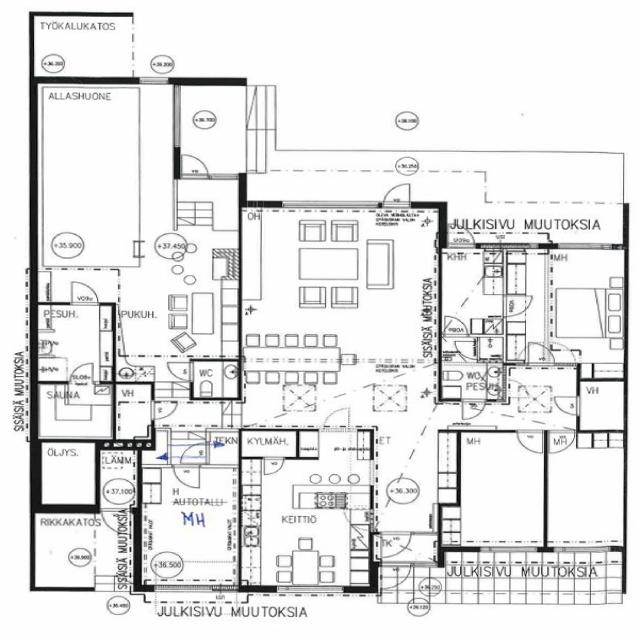door: (102, 504, 130, 536), (381, 562, 410, 590), (381, 532, 410, 559), (383, 180, 409, 208), (448, 222, 475, 248), (182, 153, 207, 179), (529, 342, 554, 367), (517, 429, 542, 454), (72, 282, 98, 306), (174, 464, 200, 488), (549, 429, 574, 453), (503, 296, 532, 316), (462, 399, 486, 420), (444, 316, 468, 337), (554, 396, 580, 415), (168, 362, 194, 380), (168, 444, 194, 462), (455, 341, 480, 359), (70, 364, 92, 384), (152, 402, 176, 419), (265, 457, 283, 474)
